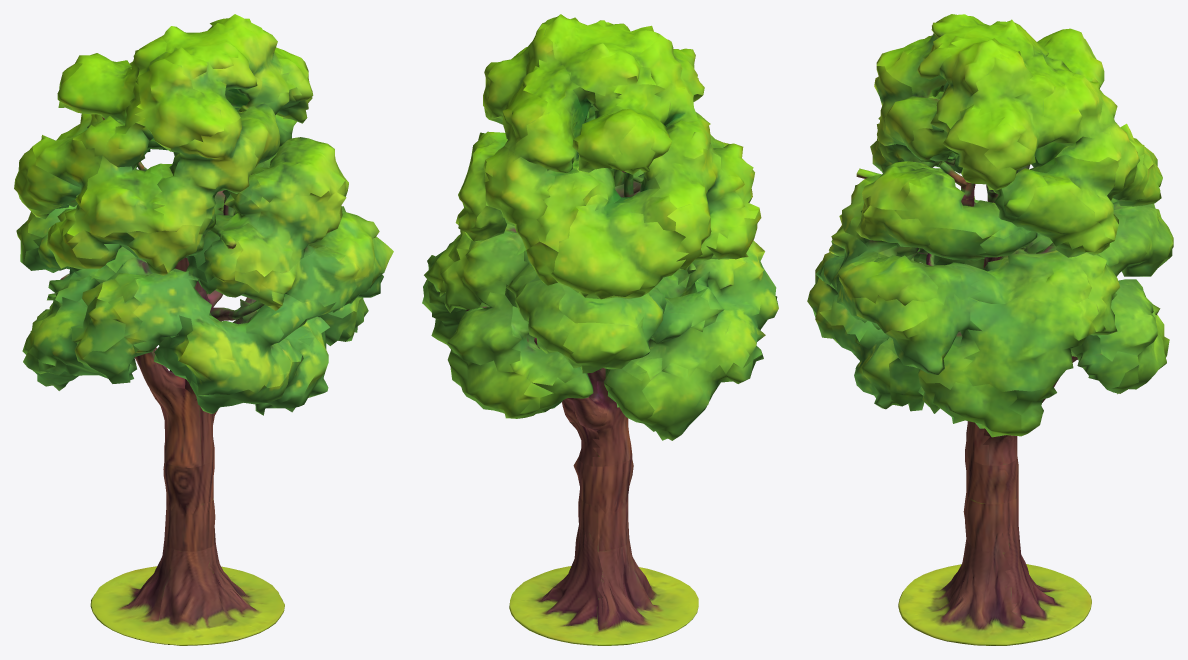
The model's file is veg_tree_oak_a.glb.
3 views of the same model, side by side, from view 1: azimuth 30°, elevation 25°; view 2: azimuth 150°, elevation 25°; view 3: azimuth 270°, elevation 25° (orthographic).
Parts seen in each view (by area): view 1: hollow_normalise; view 2: hollow_normalise; view 3: hollow_normalise.
Part boxes in pixels (box(x1,y1,x2,y2)): hollow_normalise: box(14, 14, 393, 645); hollow_normalise: box(422, 14, 778, 645); hollow_normalise: box(807, 14, 1173, 645).
Bounding box in the file's own units: 2.28 × 4 × 2.26.
Materials: 1 (1 with a texture image).
